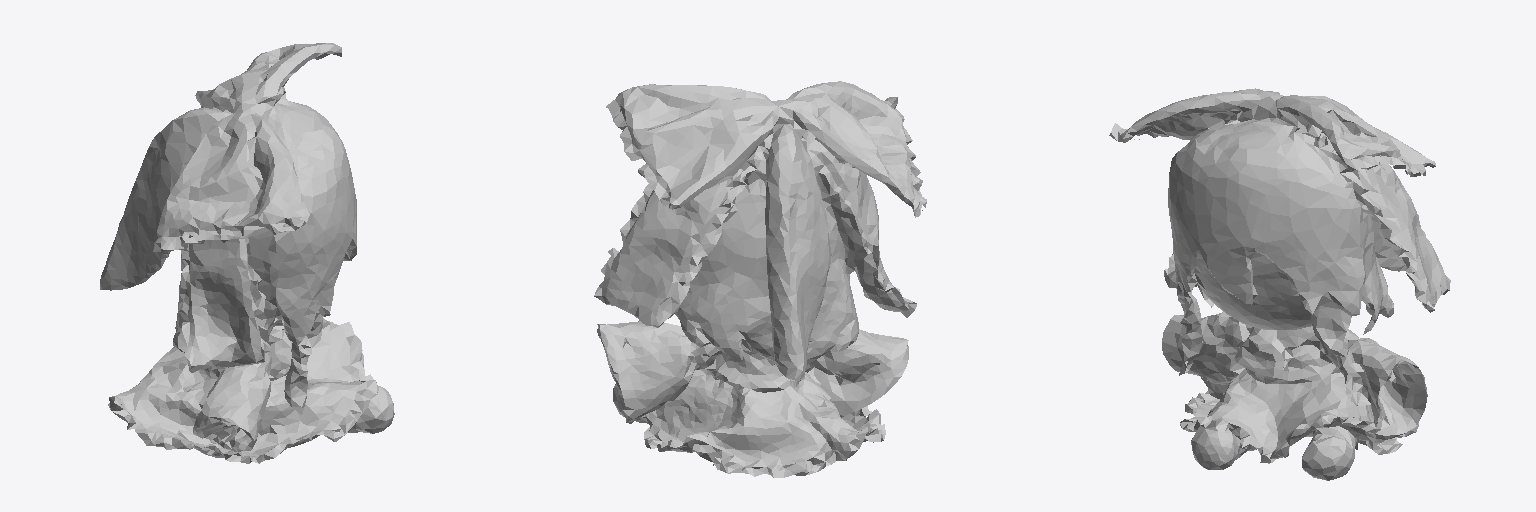
The model's file is reimu_rot.obj.
The picture shows the model from 3 angles: view 1: azimuth 30°, elevation 25°; view 2: azimuth 150°, elevation 25°; view 3: azimuth 270°, elevation 25°; orthographic projection.
Visible parts, largest first — view 1: reimu_low; view 2: reimu_low; view 3: reimu_low.
Part boxes in pixels (x1,y1,x2,y2): reimu_low: (100, 43, 394, 463); reimu_low: (594, 81, 926, 477); reimu_low: (1109, 88, 1450, 480).
Size of the model in its own units: 20.91 by 26.83 by 24.2.